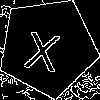X: (22, 22, 63, 73)
